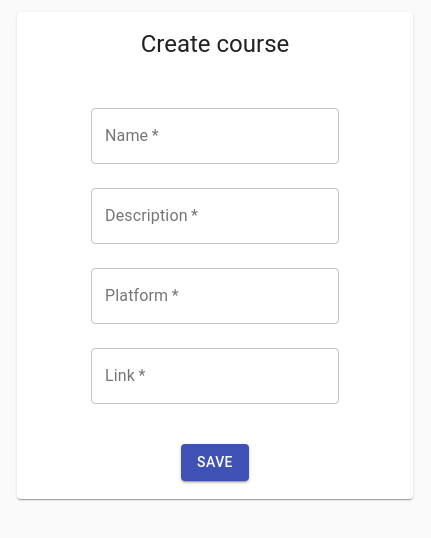
it: Course test › When creating a course › should register a course with invalid empty platform show error
Expected: the text "Create course" is shown, [141, 28, 289, 60]
Step 1. Type "Matematica" into the field with id "course-name" → (215, 136), box [91, 108, 339, 164]
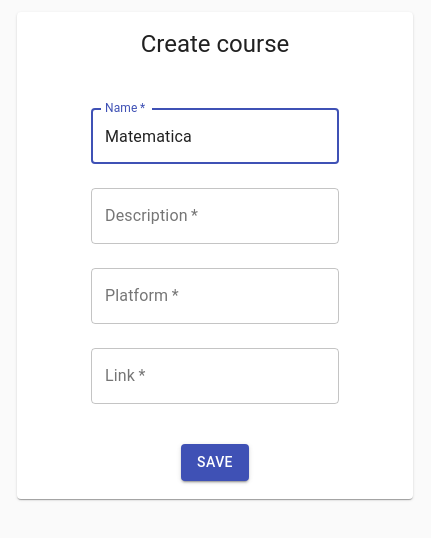
Step 2. Type "This is a description" into the field with id "course-description" → (215, 216), box [91, 188, 339, 244]
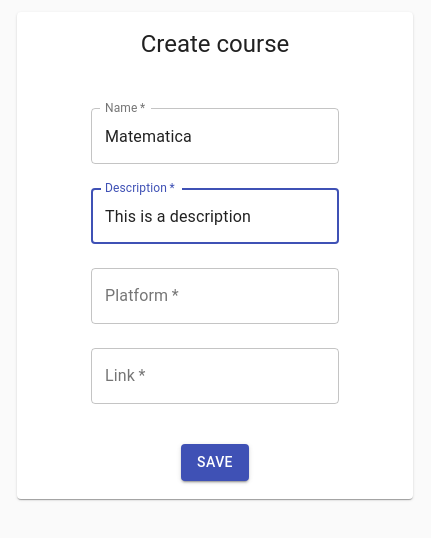
Step 3. Type "www.link.com" into the field with id "course-link" → (215, 376), box [91, 348, 339, 404]
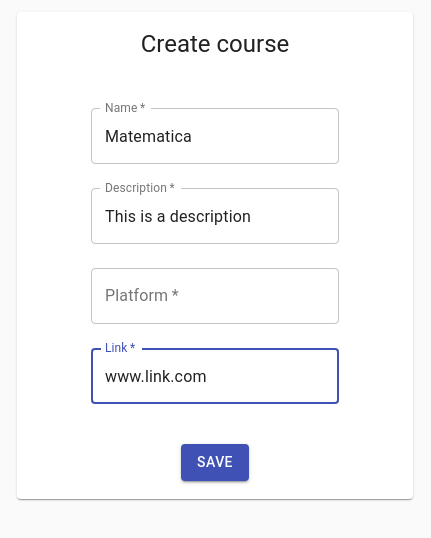
Step 4. Click the button with id "submit-button" → (215, 463), box [181, 444, 249, 481]
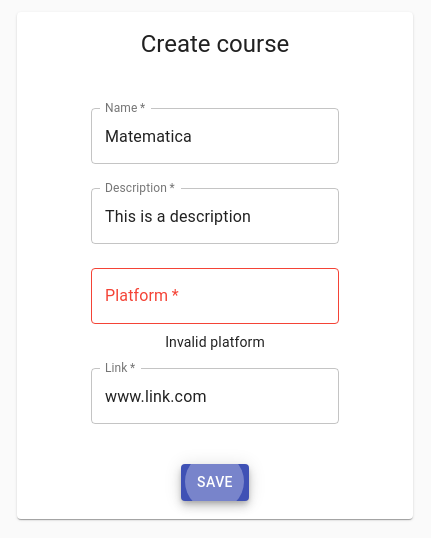
Expected: the text "Create course" is shown, [141, 28, 289, 60]
Expected: the text "Invalid platform" is shown, [165, 334, 265, 350]
